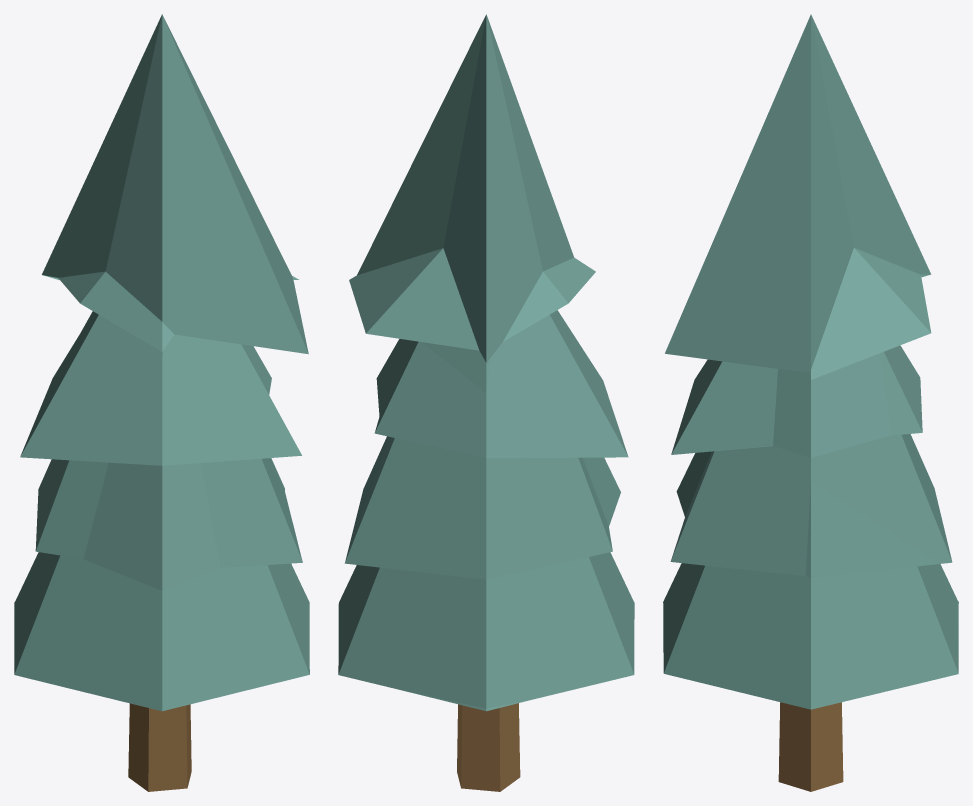
File: Pine_004.fbx
3 views of the same model, side by side, from view 1: azimuth 30°, elevation 25°; view 2: azimuth 150°, elevation 25°; view 3: azimuth 270°, elevation 25° (orthographic).
Visible parts, largest first — view 1: Pine.004; view 2: Pine.004; view 3: Pine.004.
Part boxes in pixels (box(x1,y1,x2,y2)): Pine.004: box(14, 14, 309, 791); Pine.004: box(338, 14, 634, 791); Pine.004: box(663, 14, 958, 791).
Bounding box in the file's own units: 4.29 × 10.61 × 3.72.
